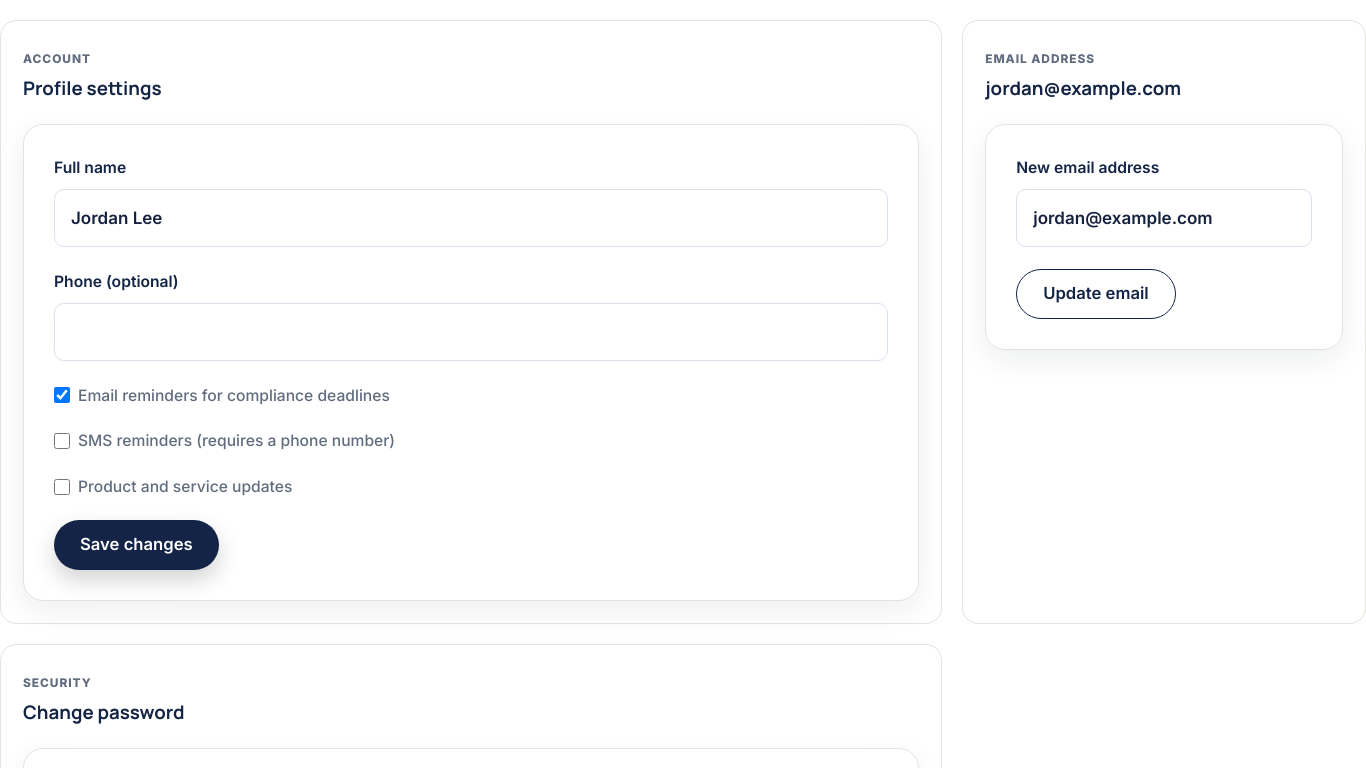
Test case: Settings page › email change shows a pending-confirmation state instead of silently updating the email
Expected: the field showing "Jordan Lee" is shown, [54,189,888,247]
Replace the text in the field labelled "New email address" with "new-address@example.com". click: (1164, 218)
box: [1016,189,1312,247]
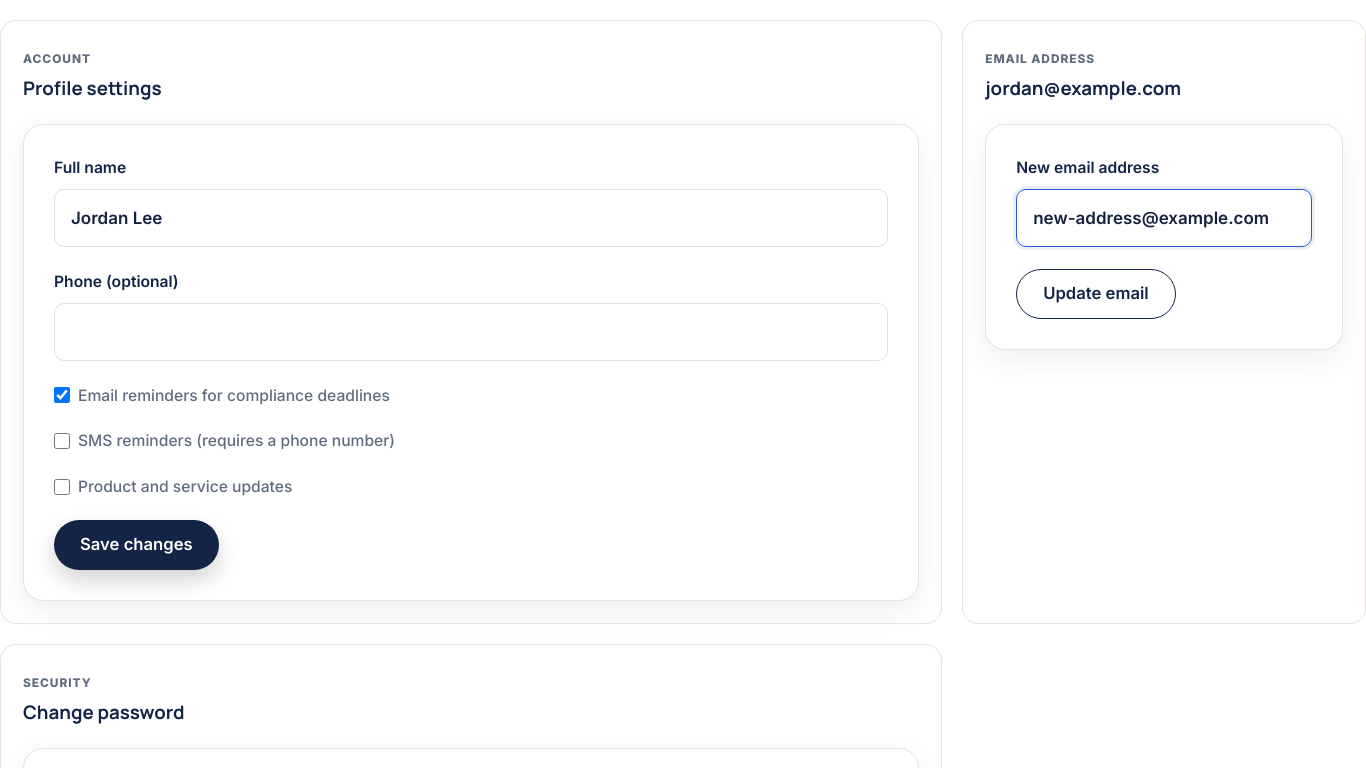
Click the button "Update email". click: (1096, 294)
box: [1016,269,1176,319]
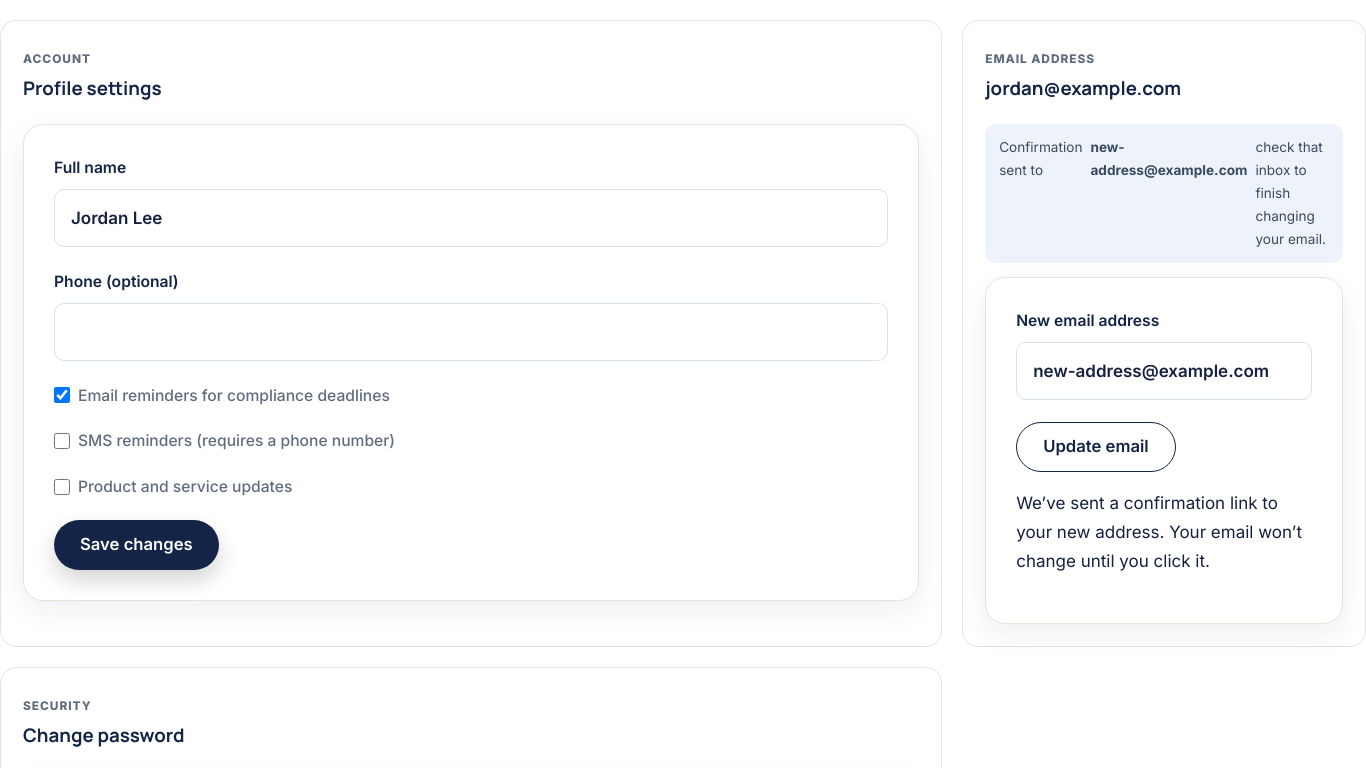
Now the text "won.t change until you click it" is shown, box [1016,493,1302,571]
